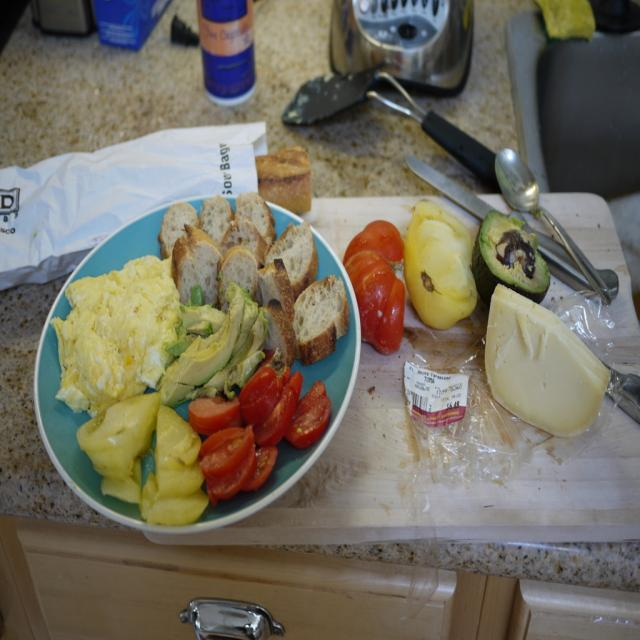Cheese: (484, 284, 612, 442)
